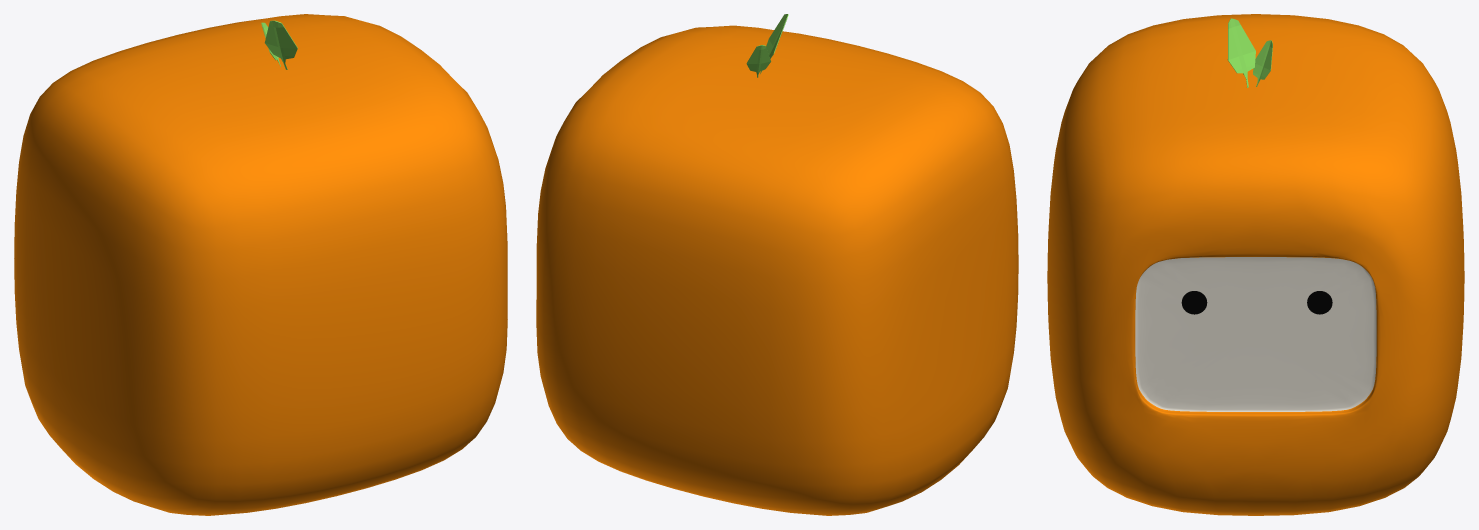
File: asset_update_scale1.fbx
3 renders of one model, left to right at view 1: azimuth 30°, elevation 25°; view 2: azimuth 150°, elevation 25°; view 3: azimuth 270°, elevation 25°, orthographic. The views are drawn at different scales.
Parts seen in each view (by area): view 1: CHAR_1; view 2: CHAR_1; view 3: CHAR_1.
Part boxes in pixels (x1,y1,x2,y2): CHAR_1: (14, 14, 507, 515); CHAR_1: (536, 14, 1018, 515); CHAR_1: (1047, 14, 1464, 515).
Size of the model in its own units: 99.04 by 115 by 99.01.
